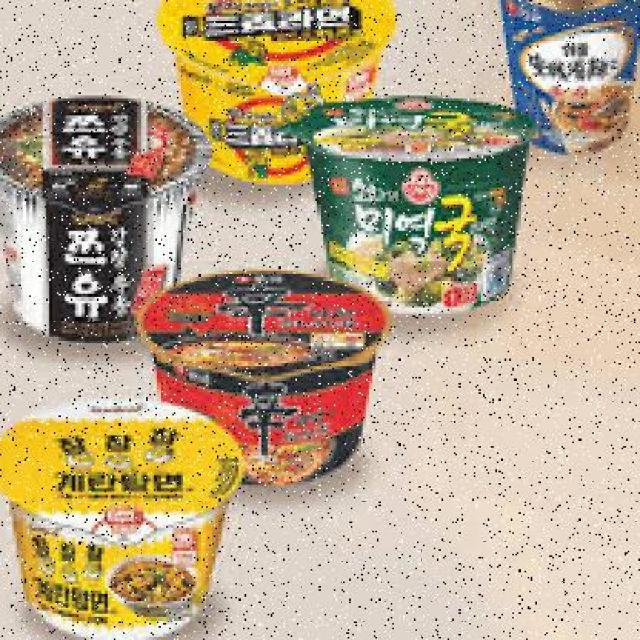Miscellaneous: (0, 412, 258, 633), (143, 270, 391, 478), (304, 106, 536, 316), (0, 102, 206, 336), (163, 0, 392, 182), (486, 0, 640, 152)
